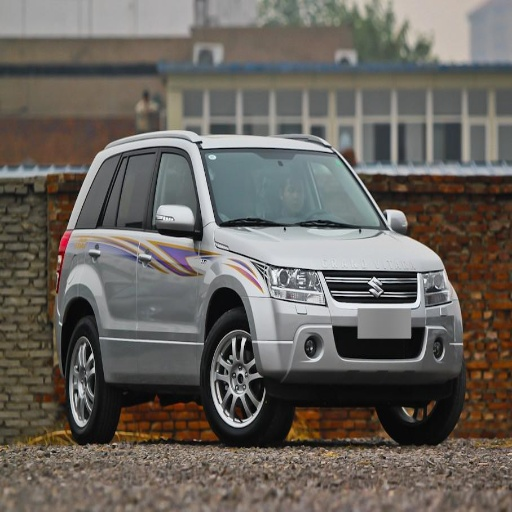back_right_door: (77, 144, 156, 369)
front_bumper: (249, 270, 462, 395)
front_right_door: (139, 142, 201, 365)
front_right_light: (249, 264, 323, 303)
hood: (225, 230, 442, 270)
